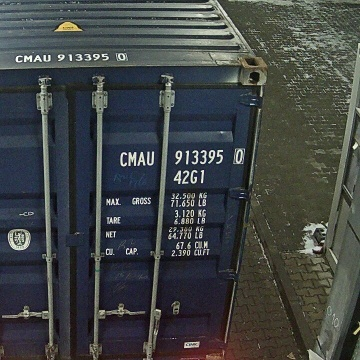serial_id: (119, 149, 243, 166)
